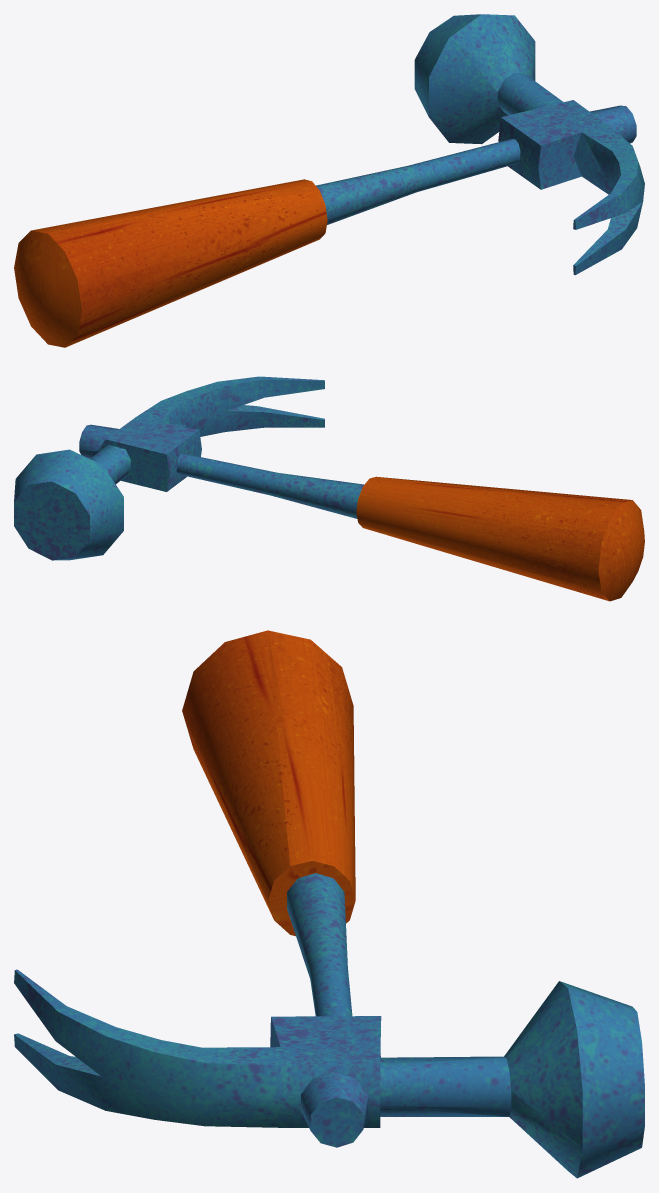
3 views of the same model, one above another, from view 1: azimuth 30°, elevation 25°; view 2: azimuth 150°, elevation 25°; view 3: azimuth 270°, elevation 25° (orthographic). The views are drawn at different scales.
Visible parts, largest first — view 1: Object_6, Object_8; view 2: Object_6, Object_8; view 3: Object_6, Object_8.
Part boxes in pixels (x1=…): Object_6: x1=316, y1=14, x2=644, y2=275; Object_8: x1=14, y1=179, x2=327, y2=347; Object_6: x1=14, y1=376, x2=363, y2=560; Object_8: x1=356, y1=476, x2=644, y2=601; Object_6: x1=14, y1=873, x2=644, y2=1178; Object_8: x1=182, y1=630, x2=355, y2=936.
Bounding box in the file's own units: 0.6283 × 0.1254 × 0.3919.
2 materials, 2 textured.
